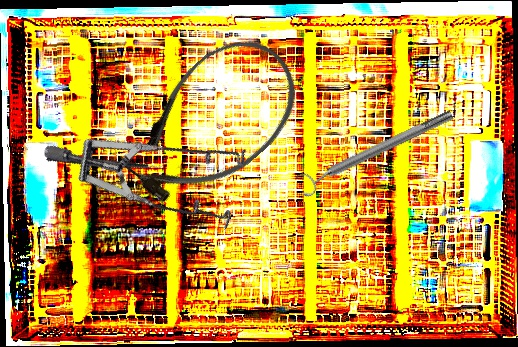Cannula: (103, 18, 320, 228)
Chopper: (45, 114, 171, 208)
Fixation Ring: (293, 102, 459, 200)
Speculum: (39, 47, 276, 283)
